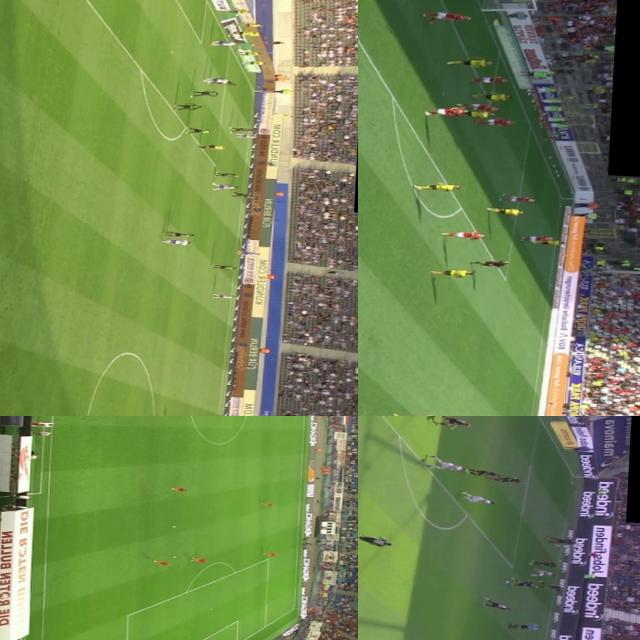ball: (168, 524, 178, 530), (170, 555, 176, 559), (248, 253, 254, 255)
player: (438, 228, 490, 242), (407, 180, 462, 193), (424, 454, 463, 472), (358, 532, 397, 549), (502, 575, 541, 591), (424, 10, 472, 22), (459, 490, 497, 504), (500, 193, 537, 207), (486, 205, 525, 218), (430, 416, 469, 429), (429, 268, 475, 278), (448, 58, 492, 68), (456, 103, 498, 113), (528, 238, 569, 248), (470, 76, 510, 86), (426, 108, 472, 116), (478, 118, 514, 128), (528, 558, 556, 570), (474, 92, 514, 100), (484, 598, 510, 610), (524, 235, 558, 244), (456, 110, 494, 118), (172, 102, 202, 112), (491, 475, 527, 483), (527, 568, 555, 578), (391, 411, 446, 416), (465, 468, 498, 476), (208, 183, 238, 191), (548, 536, 578, 544), (540, 584, 566, 593), (236, 132, 262, 140), (187, 128, 215, 135), (212, 292, 236, 300), (166, 238, 190, 246), (210, 79, 236, 86), (197, 90, 219, 98), (230, 125, 252, 133), (152, 560, 174, 568), (211, 172, 240, 178), (168, 232, 196, 238), (229, 192, 253, 199), (204, 78, 230, 84), (210, 40, 236, 46), (237, 250, 259, 257), (192, 556, 210, 564), (260, 552, 280, 559), (258, 500, 274, 508), (171, 487, 187, 492)
